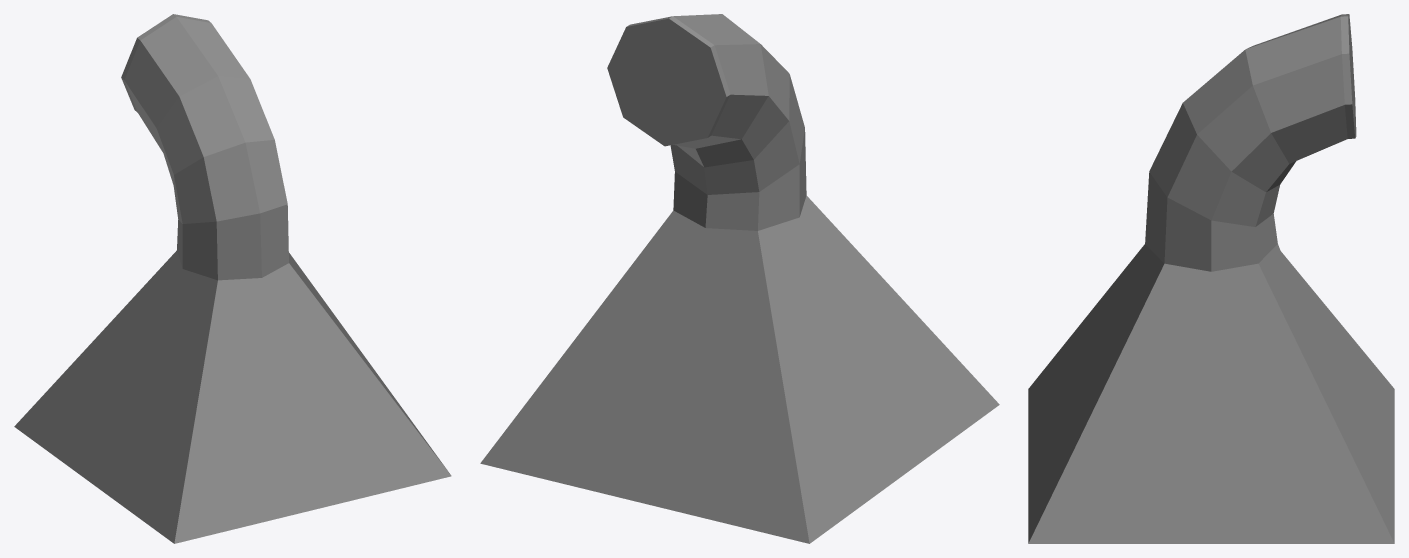
The model's file is Cooker_Hood.glb.
The picture shows the model from 3 angles, left to right: view 1: azimuth 30°, elevation 25°; view 2: azimuth 150°, elevation 25°; view 3: azimuth 270°, elevation 25°; orthographic projection. The views are drawn at different scales.
Visible parts, largest first — view 1: Cube.036; view 2: Cube.036; view 3: Cube.036.
Boxes of the visible parts, bbox=[...] form: Cube.036: bbox=[14, 14, 451, 543]; Cube.036: bbox=[480, 14, 999, 543]; Cube.036: bbox=[1028, 14, 1394, 543].
Bounding box in the file's own units: 14.24 × 19.31 × 14.24.
1 material, 1 textured.
